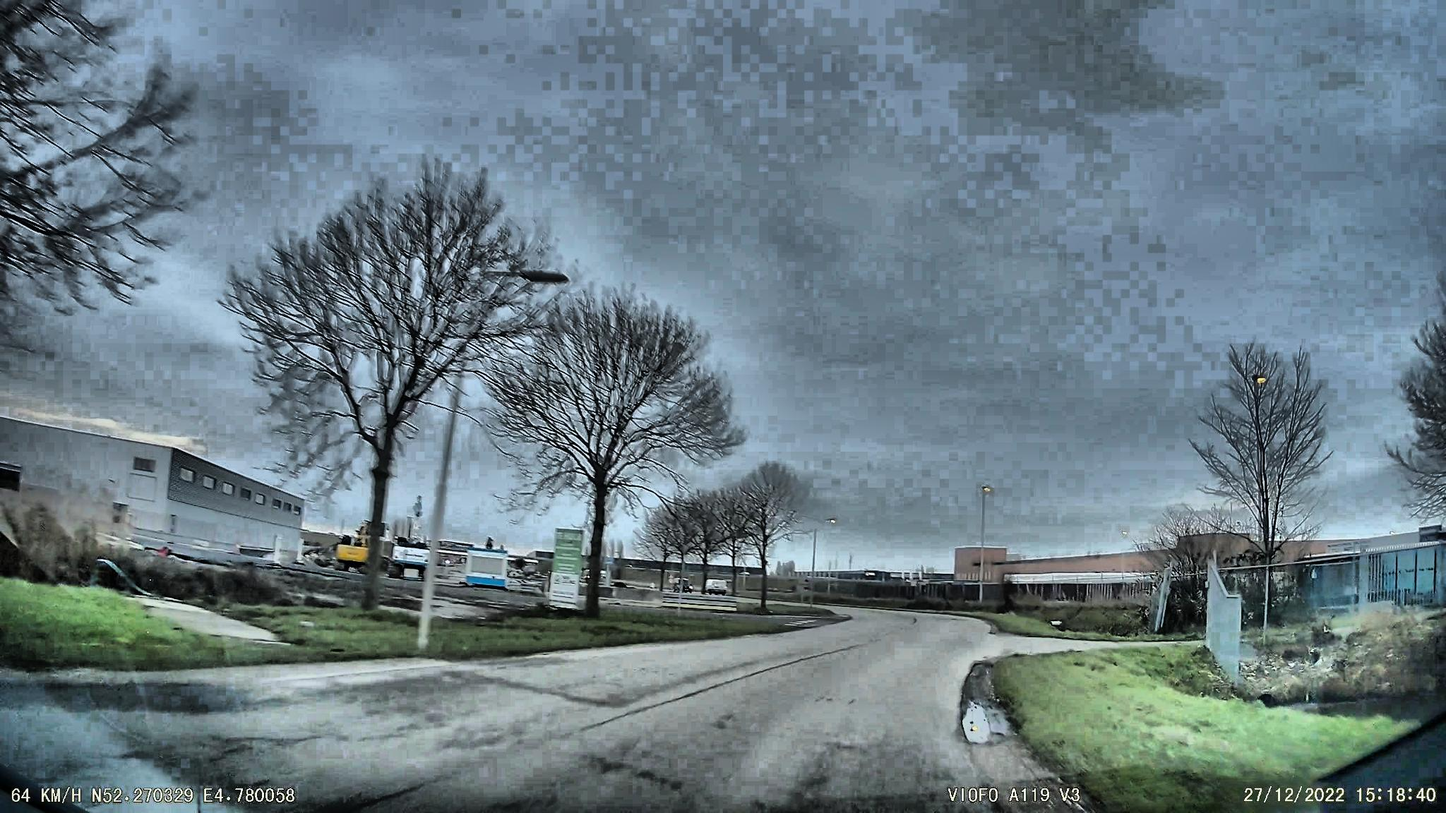Roads: (0, 613, 1096, 813)
